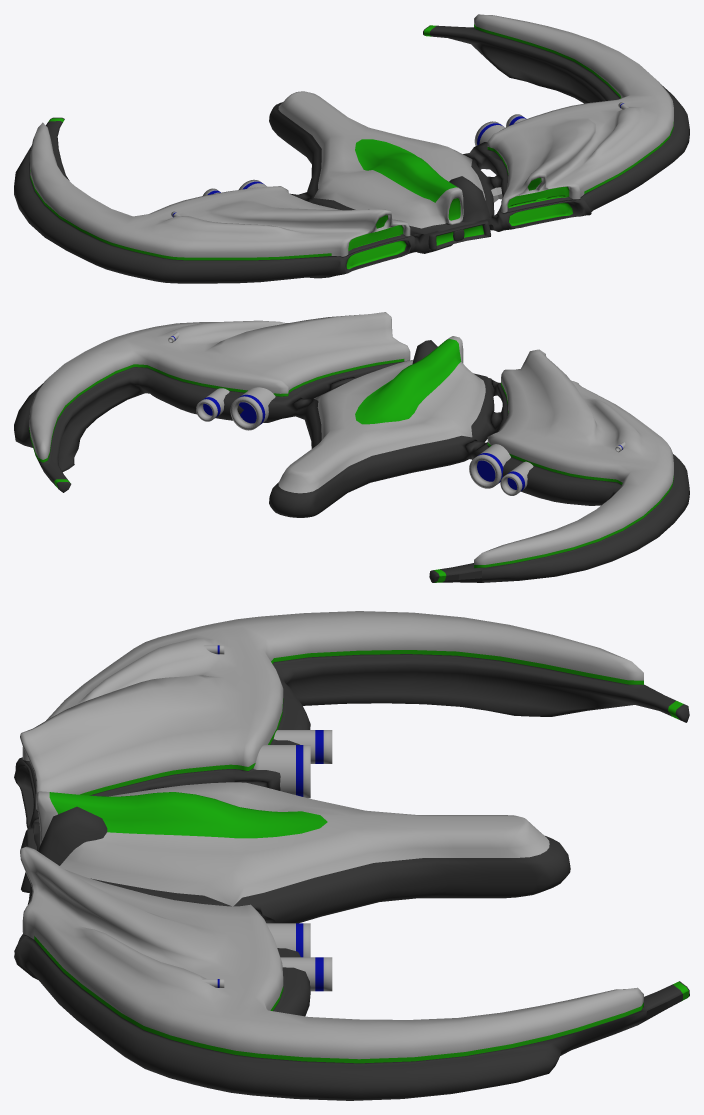
File: primary1.obj
3 renders of one model, top to bottom at view 1: azimuth 30°, elevation 25°; view 2: azimuth 150°, elevation 25°; view 3: azimuth 270°, elevation 25°, orthographic. The views are drawn at different scales.
Visible parts, largest first — view 1: Plane, Cylinder.001; view 2: Plane, Cylinder.001, Cylinder.002, Cylinder.003; view 3: Plane, Cylinder.001, Cylinder.003, Cylinder.002.
Boxes of the visible parts, x1,y1,x2,y2 form: Plane: (14, 14, 689, 283); Cylinder.001: (238, 121, 505, 189); Plane: (14, 312, 689, 582); Cylinder.001: (230, 387, 510, 488); Cylinder.002: (196, 388, 229, 421); Cylinder.003: (500, 461, 533, 495); Plane: (14, 611, 689, 1100); Cylinder.001: (253, 745, 310, 957); Cylinder.003: (273, 730, 332, 763); Cylinder.002: (280, 957, 332, 991).
Bounding box in the file's own units: 33.4 × 4 × 20.84.
